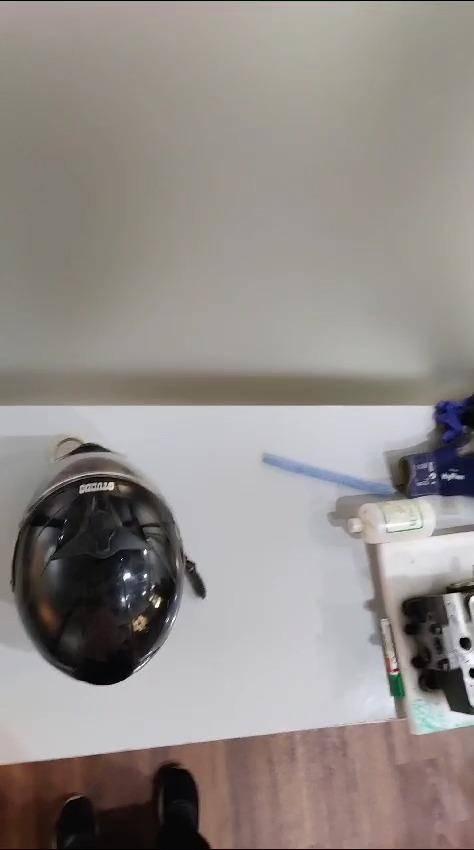Helmet: (12, 439, 205, 685)
